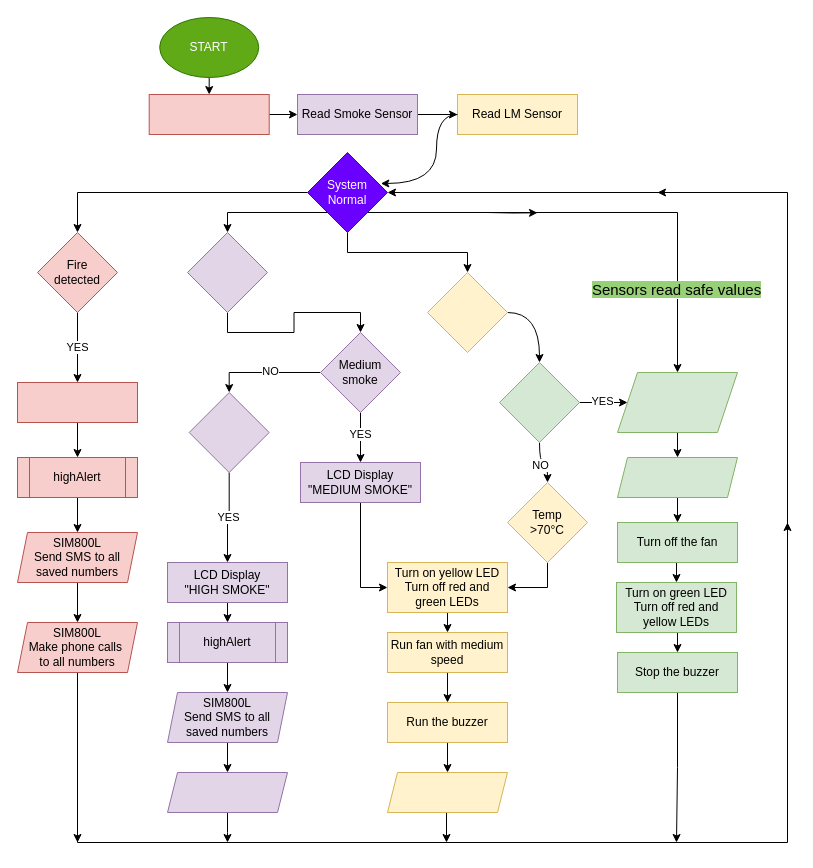
Image size: 813x868. Some labels were removed from this diagram. Here are the shapes that lost their labels. From the top down, the centre of each, then its label:
pixel 208 114: Read Fire Sensor
pixel 227 272: smoke detected
pixel 467 312: Tempreture check
pixel 77 402: LCD Display "FIRE DETECTED!"
pixel 539 402: Temp 50:65°C
pixel 677 402: LCD displays Smoke:LOW NO Fire Detected
pixel 228 432: High smoke
pixel 677 477: Display temp. on LCD
pixel 227 792: SIM800L Make phone calls
pixel 447 792: Send SMS to all saved numbers
